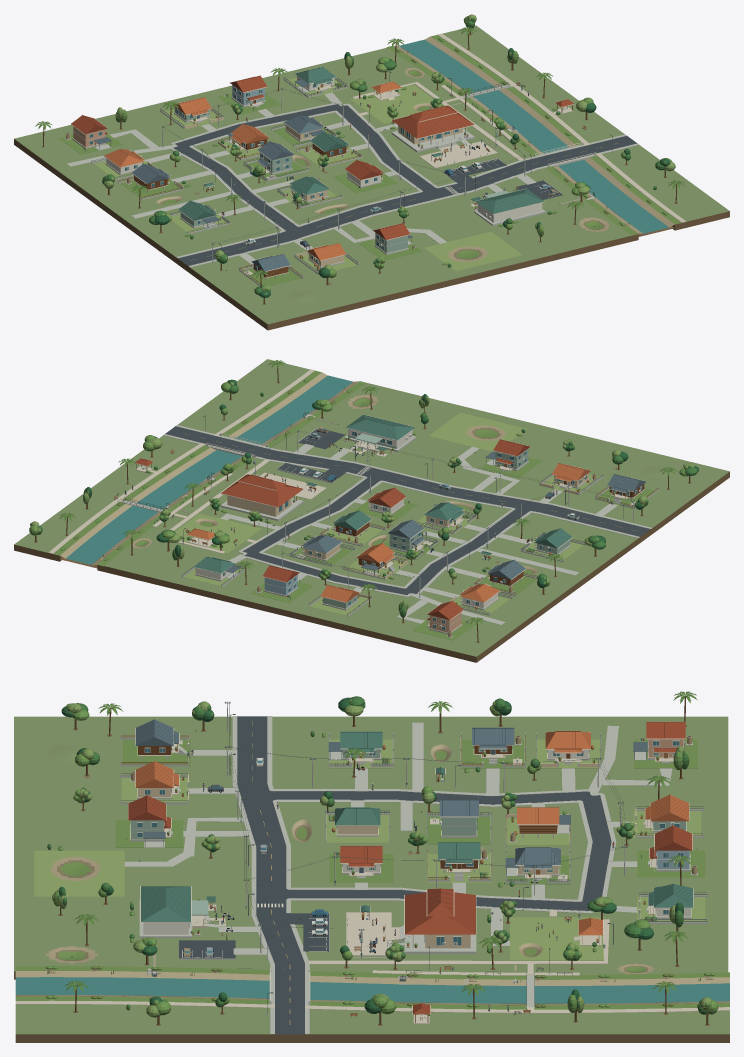
The model's file is thai_community_visible_low_areas.glb.
3 renders of one model, top to bottom at view 1: azimuth 30°, elevation 25°; view 2: azimuth 150°, elevation 25°; view 3: azimuth 270°, elevation 25°, orthographic. The views are drawn at different scales.
Parts seen in each view (by area): view 1: TERRAIN_West, TERRAIN_East, WATER_CANAL, ROAD_MAIN_001, OPEN_Future_Lot, CANAL_BANK_East, CANAL_GRASS_VERGE_1, ROAD_MAIN_001_Shoulders, OPEN_Community_Green, CURB_Road_Network, CANAL_EAST_FOOTPATH, CANAL_GRASS_VERGE_-1 (+15 smaller); view 2: TERRAIN_West, TERRAIN_East, WATER_CANAL, ROAD_MAIN_001, OPEN_Future_Lot, CANAL_BANK_East, ROAD_MAIN_001_Shoulders, CANAL_GRASS_VERGE_1, CURB_Road_Network, CANAL_GRASS_VERGE_-1, CANAL_EAST_FOOTPATH, OPEN_Community_Green (+14 smaller); view 3: TERRAIN_West, TERRAIN_East, WATER_CANAL, ROAD_MAIN_001, CANAL_BANK_West, OPEN_Future_Lot, CANAL_GRASS_VERGE_-1, OPEN_Community_Green, CANAL_GRASS_VERGE_1, ROAD_MAIN_001_Shoulders, CANAL_EAST_FOOTPATH, COMMUNITY_Main_Roof (+58 smaller).
Boxes of the visible parts, <box> form: TERRAIN_West: <box>14,47,638,330</box>; TERRAIN_East: <box>442,25,729,230</box>; WATER_CANAL: <box>399,39,668,233</box>; ROAD_MAIN_001: <box>178,136,637,265</box>; OPEN_Future_Lot: <box>424,231,522,271</box>; CANAL_BANK_East: <box>425,36,674,227</box>; CANAL_GRASS_VERGE_1: <box>430,35,681,224</box>; ROAD_MAIN_001_Shoulders: <box>176,134,639,267</box>; OPEN_Community_Green: <box>351,84,434,123</box>; CURB_Road_Network: <box>173,104,637,266</box>; CANAL_EAST_FOOTPATH: <box>437,33,686,222</box>; CANAL_GRASS_VERGE_-1: <box>386,46,637,234</box>; TERRAIN_West: <box>97,381,729,662</box>; TERRAIN_East: <box>14,359,309,561</box>; WATER_CANAL: <box>66,375,352,564</box>; ROAD_MAIN_001: <box>165,426,650,536</box>; OPEN_Future_Lot: <box>429,412,526,451</box>; CANAL_BANK_East: <box>60,372,327,558</box>; ROAD_MAIN_001_Shoulders: <box>163,425,651,538</box>; CANAL_GRASS_VERGE_1: <box>53,370,321,555</box>; CURB_Road_Network: <box>165,426,650,595</box>; CANAL_GRASS_VERGE_-1: <box>97,381,365,566</box>; CANAL_EAST_FOOTPATH: <box>48,369,314,553</box>; OPEN_Community_Green: <box>175,513,261,552</box>; TERRAIN_West: <box>14,716,728,979</box>; TERRAIN_East: <box>15,1004,729,1042</box>; WATER_CANAL: <box>15,977,729,1003</box>; ROAD_MAIN_001: <box>237,716,304,1034</box>; CANAL_BANK_West: <box>15,971,729,985</box>; OPEN_Future_Lot: <box>34,850,124,896</box>; CANAL_GRASS_VERGE_-1: <box>15,966,729,979</box>; OPEN_Community_Green: <box>510,917,603,960</box>; CANAL_GRASS_VERGE_1: <box>15,996,729,1009</box>; ROAD_MAIN_001_Shoulders: <box>232,716,309,1034</box>; CANAL_EAST_FOOTPATH: <box>15,1000,729,1013</box>; COMMUNITY_Main_Roof: <box>405,892,475,934</box>.
Size of the model in its own units: 200 by 13.85 by 190.
